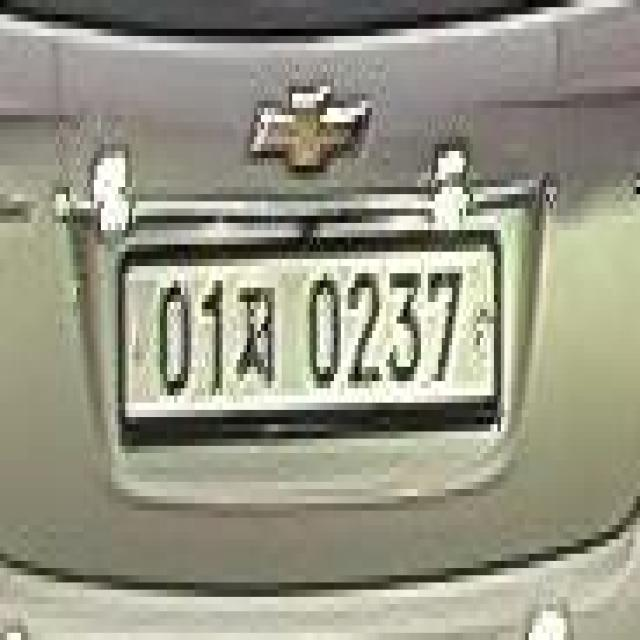illegal_plate: (115, 232, 508, 446)
